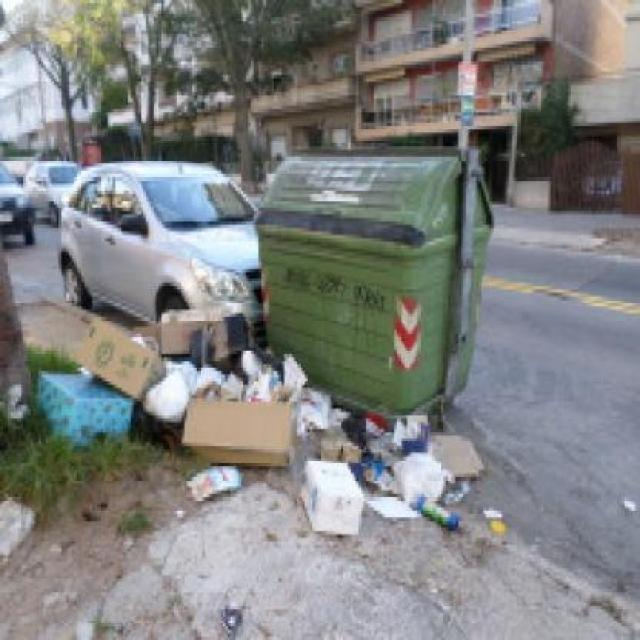garbage: (6, 295, 303, 510), (310, 399, 489, 552), (197, 603, 264, 634)
